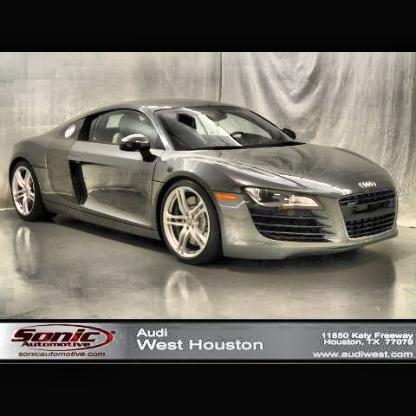Audi R8 Coupe 2012: (8, 99, 401, 271)
